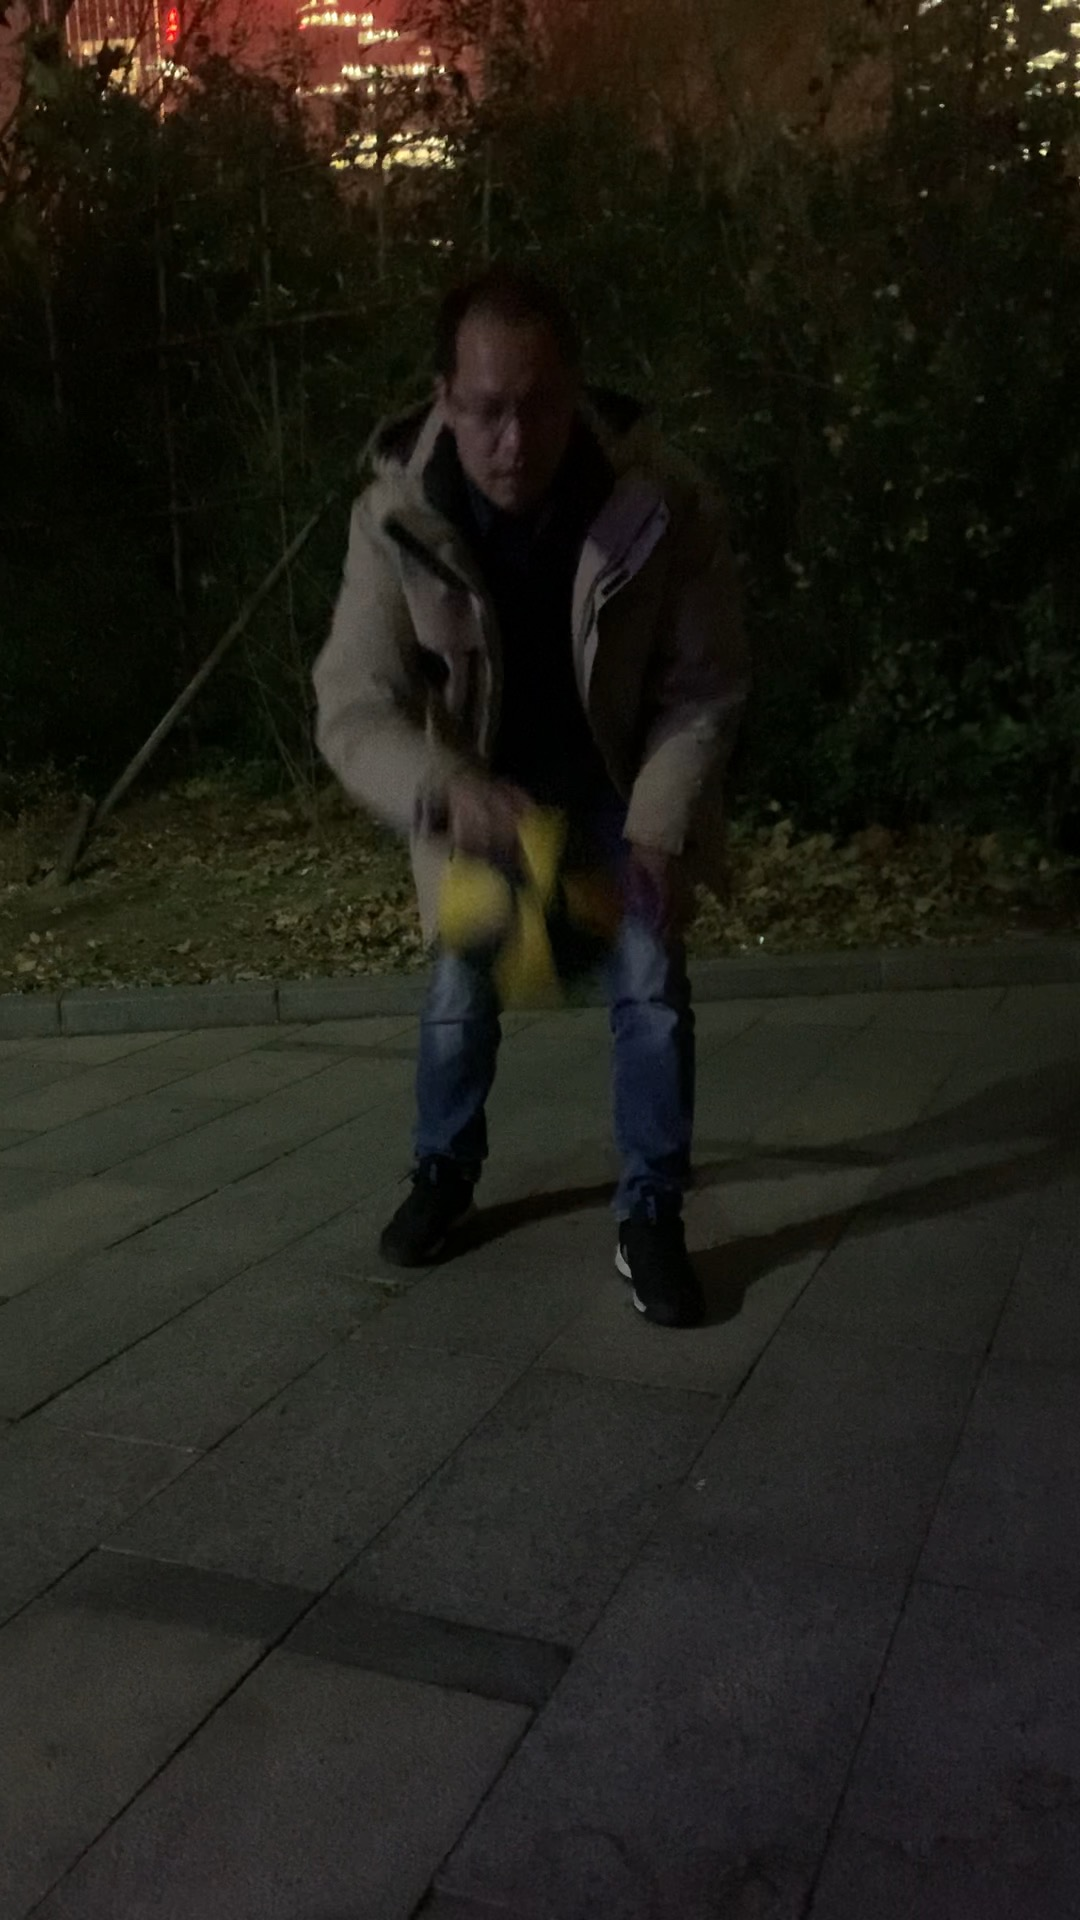ball: (426, 812, 640, 1019)
